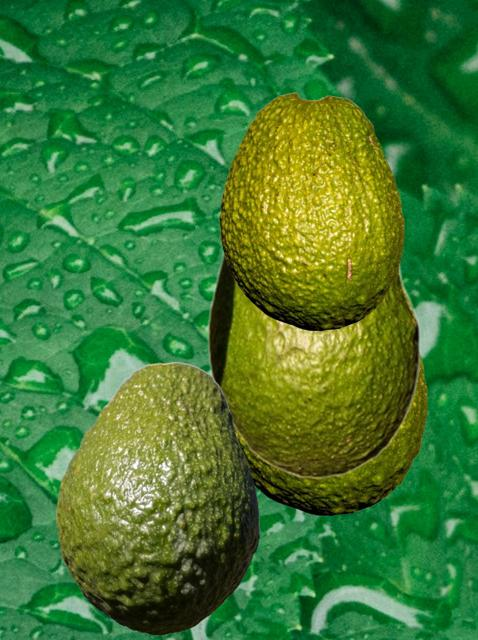avocado: (56, 361, 258, 634), (207, 249, 420, 478), (219, 92, 403, 330), (237, 351, 426, 515)
